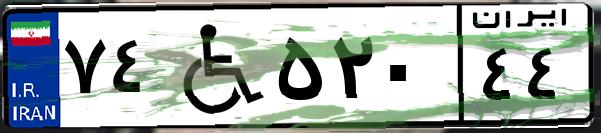0: (385, 28, 445, 110)
2: (330, 28, 385, 110)
4: (475, 38, 525, 113), (525, 38, 570, 115), (110, 28, 158, 98)
5: (270, 28, 330, 110)
7: (57, 26, 110, 100)
ژ (معلولین و جانبازان): (158, 12, 270, 120)
